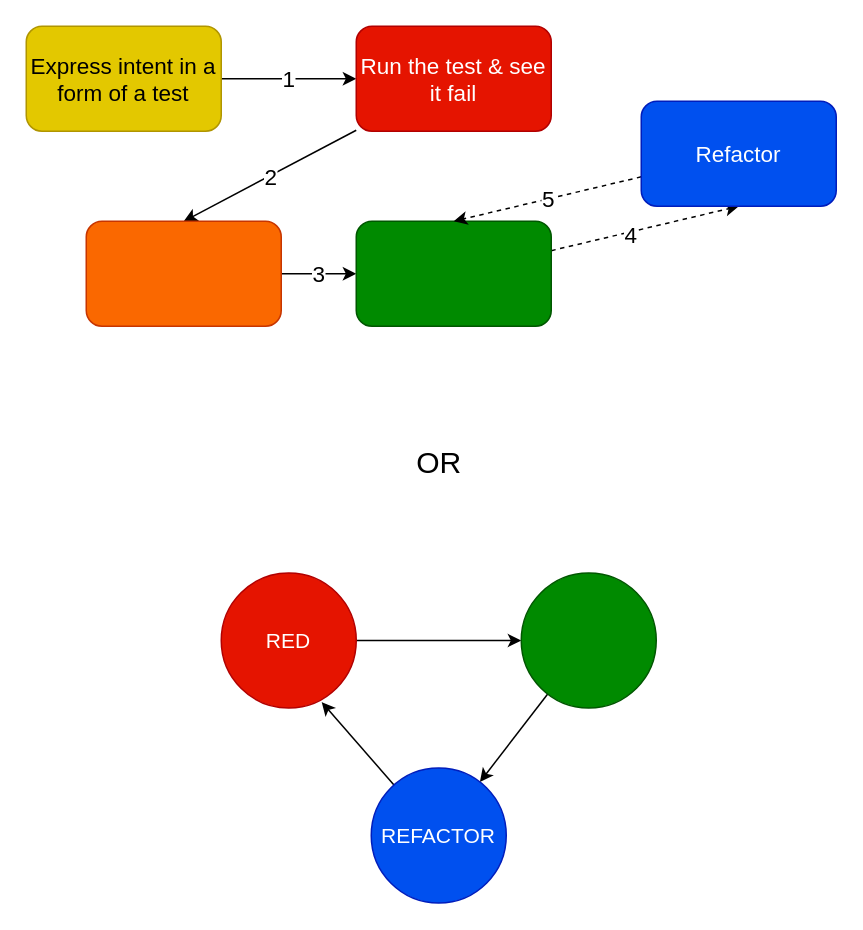
Image size: 863x930. Some labels were removed from this diagram. Here are the shapes that lost their labels. From the top down, the centre of each, then its label:
At point 183,273: "Create minimum code to pass the test".
At point 453,273: "Run the test & se it pass".
At point 588,640: "GREEN".
